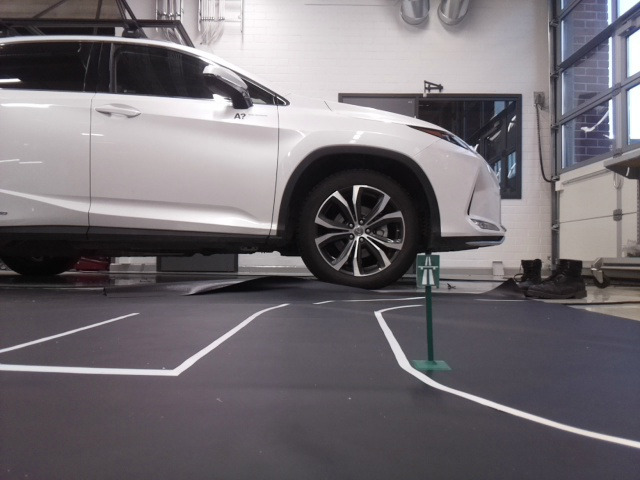HighwayEntrance: (417, 255, 438, 284)
